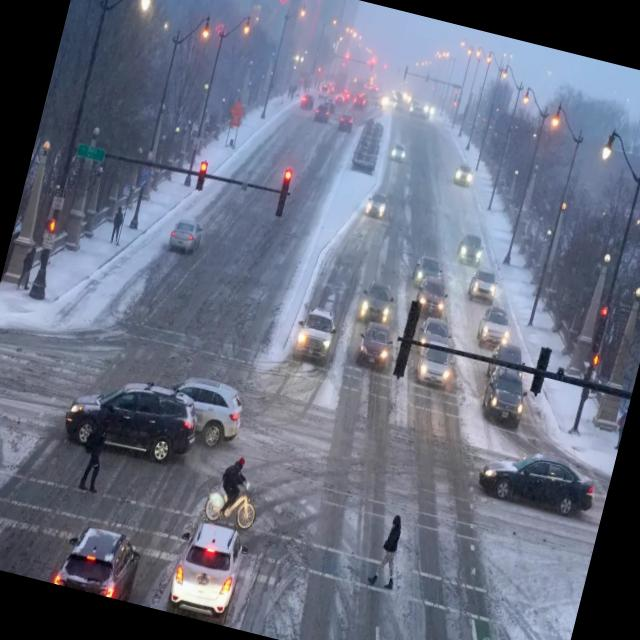Vehicle: (458, 423, 608, 554), (52, 368, 200, 462), (149, 515, 258, 629), (38, 512, 149, 602), (192, 371, 264, 448), (288, 301, 344, 364), (156, 209, 214, 265), (482, 360, 528, 421), (473, 297, 517, 353), (356, 268, 401, 322), (352, 316, 396, 369), (444, 144, 484, 195), (414, 342, 454, 389), (352, 182, 394, 220), (452, 224, 490, 264), (418, 268, 454, 310), (464, 266, 502, 302), (402, 252, 432, 290), (418, 321, 451, 346), (389, 134, 411, 162), (334, 108, 356, 134), (314, 100, 334, 128), (292, 90, 313, 112)
